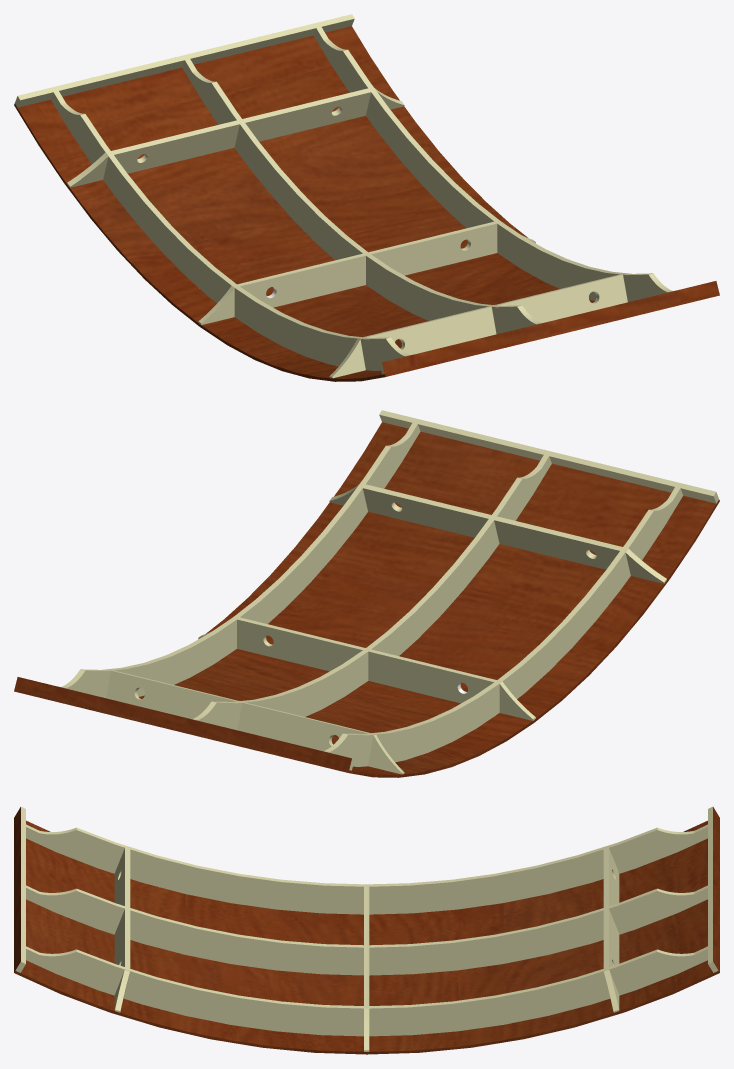
Rendered from WaveMC InsetEdge.glb.
The picture shows the model from 3 angles, top to bottom: view 1: azimuth 30°, elevation 25°; view 2: azimuth 150°, elevation 25°; view 3: azimuth 270°, elevation 25°; orthographic projection. The views are drawn at different scales.
Visible parts, largest first — view 1: 8'R WaveMC.dxf, 8'R WaveMC.dxf#1, 8'R WaveMC.dxf#3, Root Node, 8'R WaveMC.dxf#2; view 2: 8'R WaveMC.dxf, 8'R WaveMC.dxf#1, 8'R WaveMC.dxf#3, 8'R WaveMC.dxf#2, Root Node; view 3: 8'R WaveMC.dxf, 8'R WaveMC.dxf#1, 8'R WaveMC.dxf#3, 8'R WaveMC.dxf#2, Root Node.
Boxes of the visible parts, x1,y1,x2,y2 form: 8'R WaveMC.dxf: (14, 26, 719, 381); 8'R WaveMC.dxf#1: (182, 23, 680, 334); 8'R WaveMC.dxf#3: (50, 55, 549, 365); Root Node: (15, 87, 417, 378); 8'R WaveMC.dxf#2: (313, 14, 719, 302); 8'R WaveMC.dxf: (14, 422, 719, 777); 8'R WaveMC.dxf#1: (53, 419, 551, 730); 8'R WaveMC.dxf#3: (184, 451, 677, 766); 8'R WaveMC.dxf#2: (14, 410, 420, 698); Root Node: (311, 482, 718, 774); 8'R WaveMC.dxf: (14, 816, 719, 1054); 8'R WaveMC.dxf#1: (15, 883, 718, 1005); 8'R WaveMC.dxf#3: (15, 822, 718, 945); 8'R WaveMC.dxf#2: (15, 944, 718, 1051); Root Node: (15, 806, 718, 886).
Size of the model in its own units: 47.75 by 13.34 by 91.85.
Materials: 890 (43 with a texture image).
